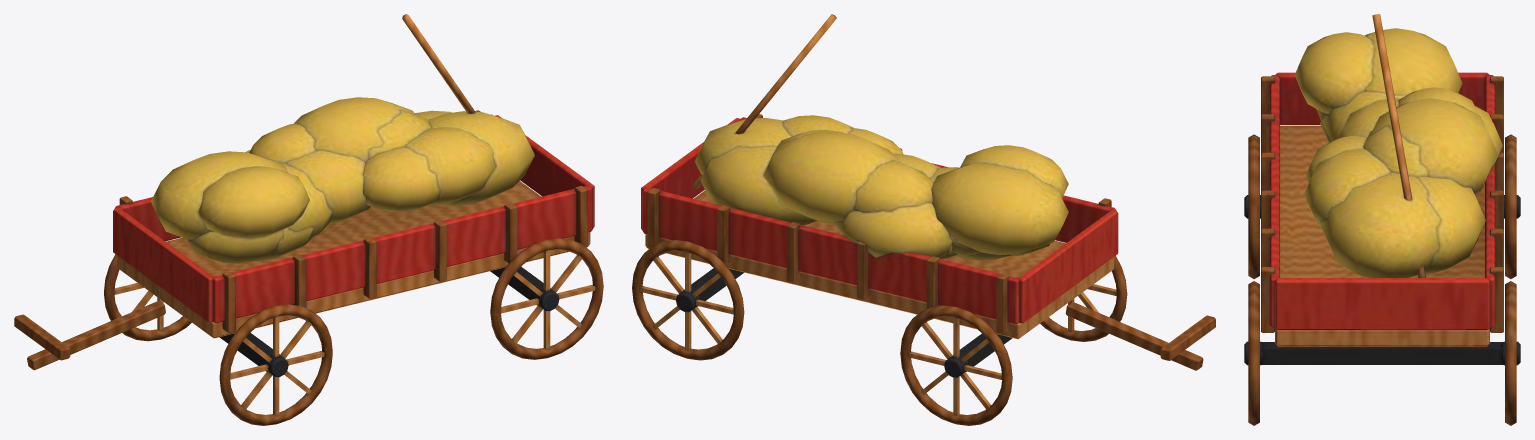
File: hay_wagon.glb
The picture shows the model from 3 angles, left to right: view 1: azimuth 30°, elevation 25°; view 2: azimuth 150°, elevation 25°; view 3: azimuth 270°, elevation 25°; orthographic projection. The views are drawn at different scales.
Parts seen in each view (by area): view 1: hay_wagon; view 2: hay_wagon; view 3: hay_wagon.
Boxes of the visible parts, x1=… form: hay_wagon: x1=14, y1=14, x2=603, y2=425; hay_wagon: x1=632, y1=14, x2=1215, y2=425; hay_wagon: x1=1244, y1=14, x2=1520, y2=425.
Bounding box in the file's own units: 1.91 × 1.14 × 0.797.
Materials: 1 (1 with a texture image).
